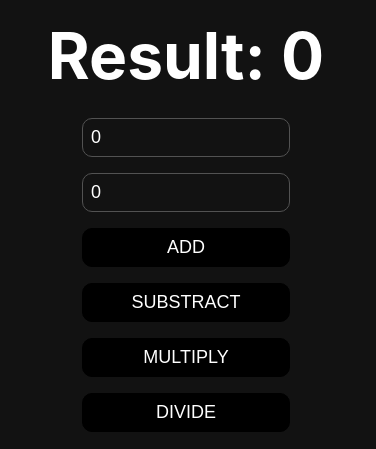
Test: Calculator › method "divide" really adds numbers into result constant
Step 1. Replace the text in the number field with test id "number1" with "200" → [186, 137], box [82,118,290,156]
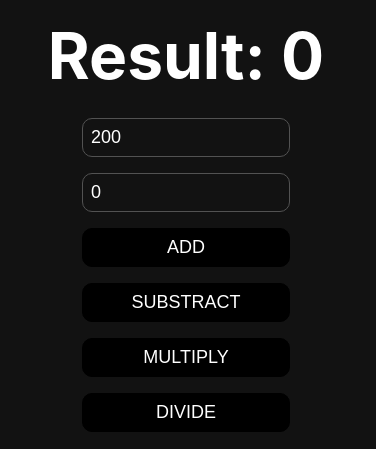
Step 2. Replace the text in the number field with test id "number2" with "2" → [186, 192], box [82,172,290,212]
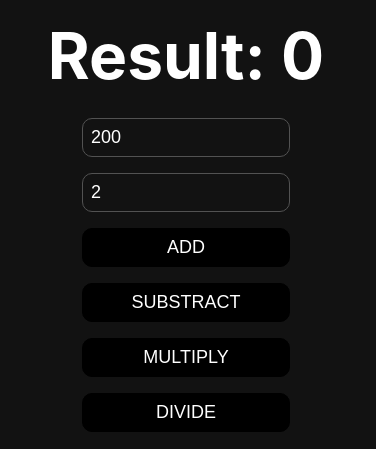
Step 3. Click the button with test id "divide" → [186, 412], box [82,392,290,432]
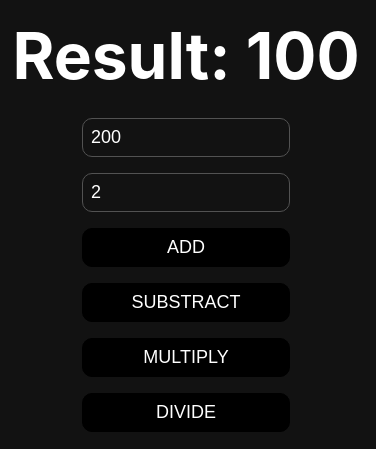
Expected: the text with test id "result" shows "100", [246,16,360,94]
